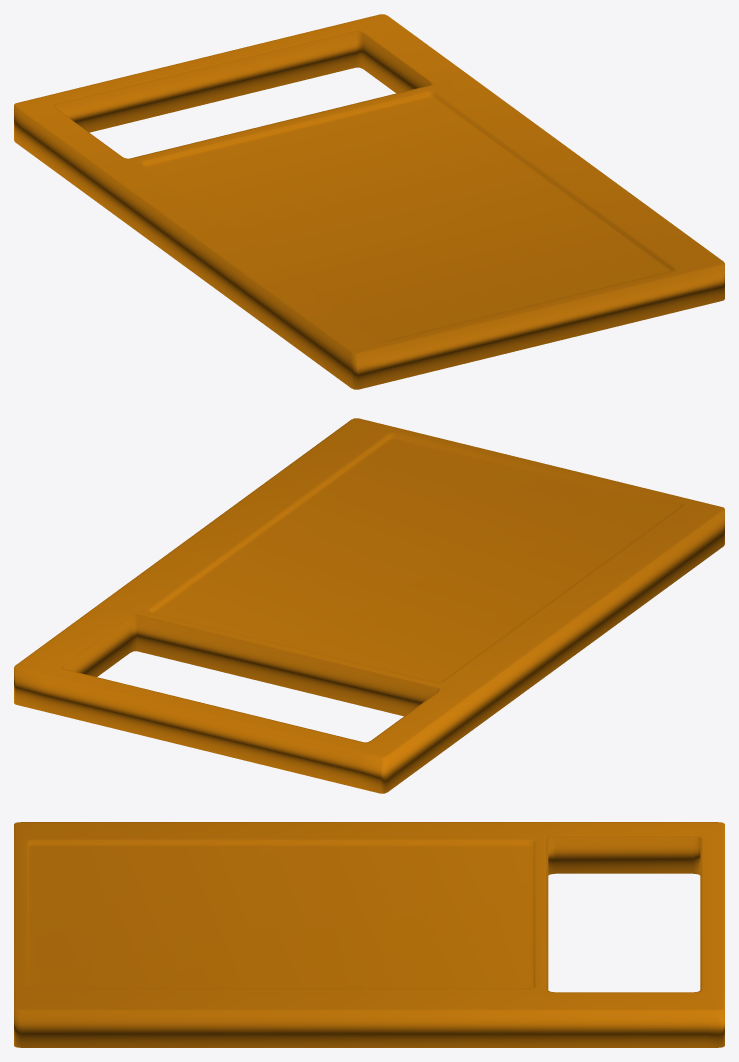
The model's file is Cutting Board Smallfbx.fbx.
3 renders of one model, top to bottom at view 1: azimuth 30°, elevation 25°; view 2: azimuth 150°, elevation 25°; view 3: azimuth 270°, elevation 25°, orthographic. The views are drawn at different scales.
Visible parts, largest first — view 1: Cutting Board Small; view 2: Cutting Board Small; view 3: Cutting Board Small.
Boxes of the visible parts, x1,y1,x2,y2 form: Cutting Board Small: [14, 14, 724, 389]; Cutting Board Small: [14, 418, 724, 793]; Cutting Board Small: [14, 822, 724, 1047].
Size of the model in its own units: 174 by 16.22 by 276.
